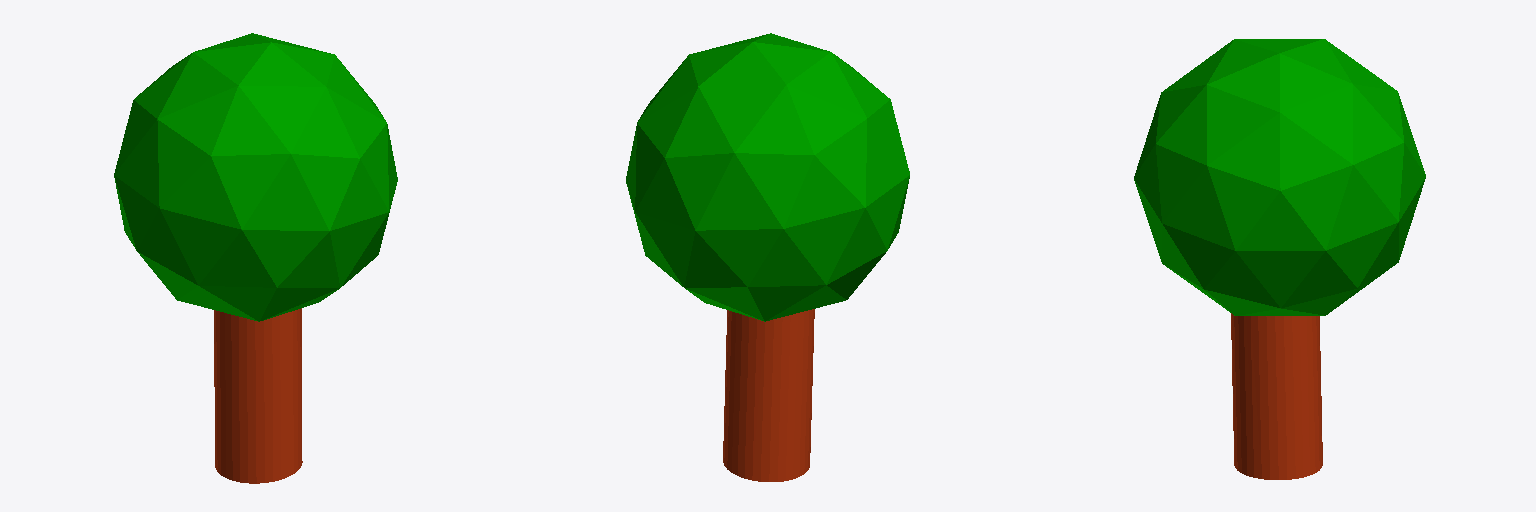
The model's file is puu.obj.
3 renders of one model, left to right at view 1: azimuth 30°, elevation 25°; view 2: azimuth 150°, elevation 25°; view 3: azimuth 270°, elevation 25°, orthographic.
Visible parts, largest first — view 1: Cylinder; view 2: Cylinder; view 3: Cylinder.
Part boxes in pixels (x1,y1,x2,y2): Cylinder: (114, 33, 397, 483); Cylinder: (626, 33, 909, 481); Cylinder: (1134, 39, 1425, 479).
Bounding box in the file's own units: 6.23 × 10.45 × 6.59.